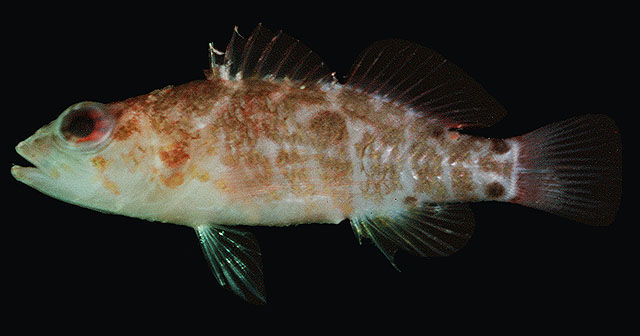fish: (11, 23, 606, 302)
